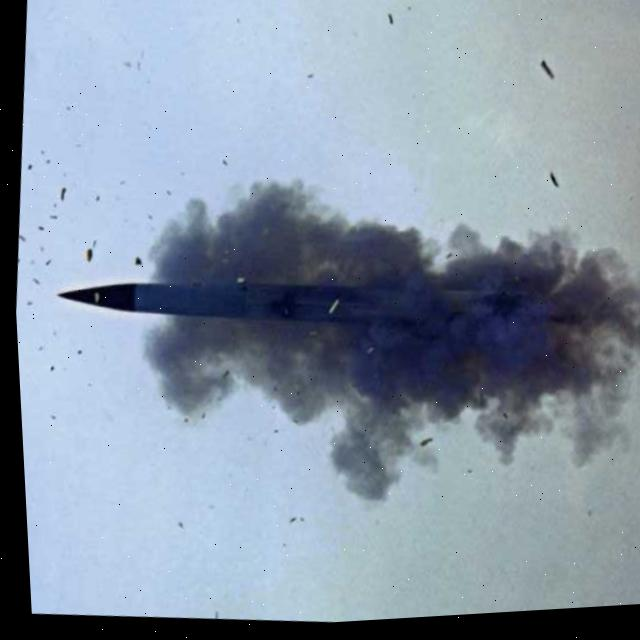missile: (42, 244, 591, 388)
